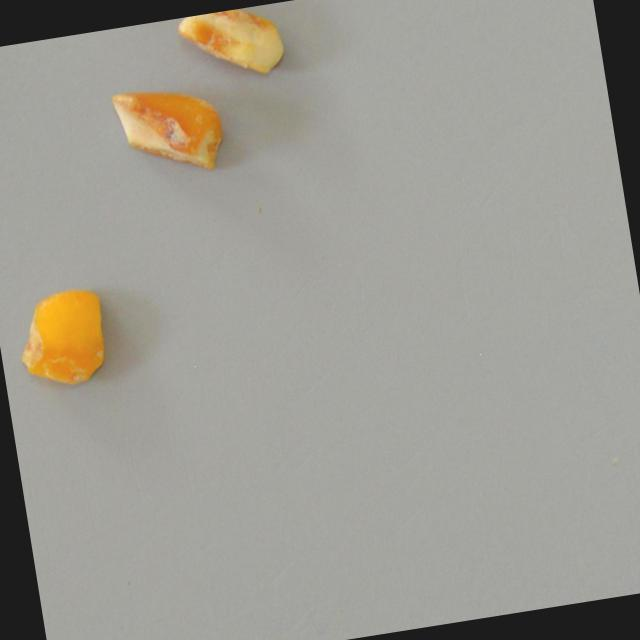dañado: (108, 75, 232, 185), (9, 279, 120, 399), (175, 2, 294, 91)
